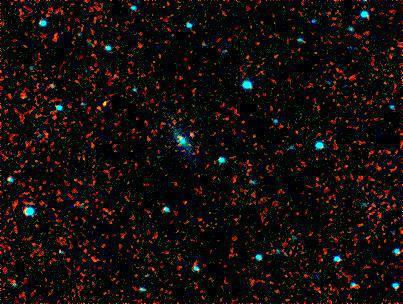star: (82, 86, 112, 116)
